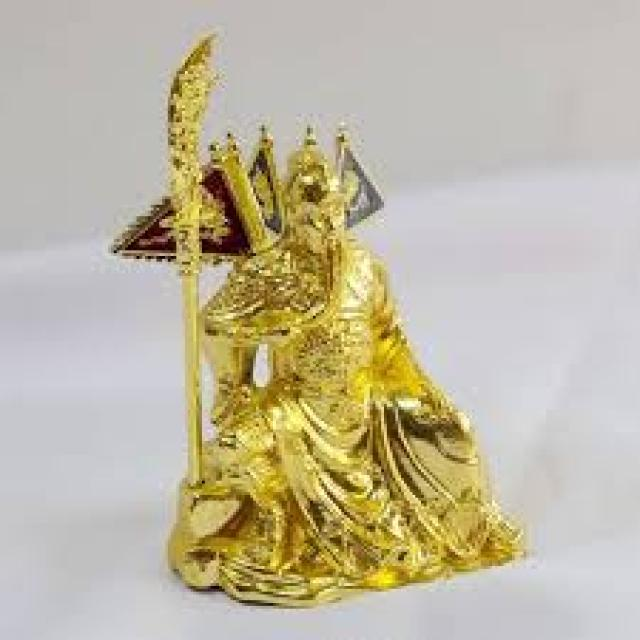Guan Yu: (188, 132, 399, 482)
